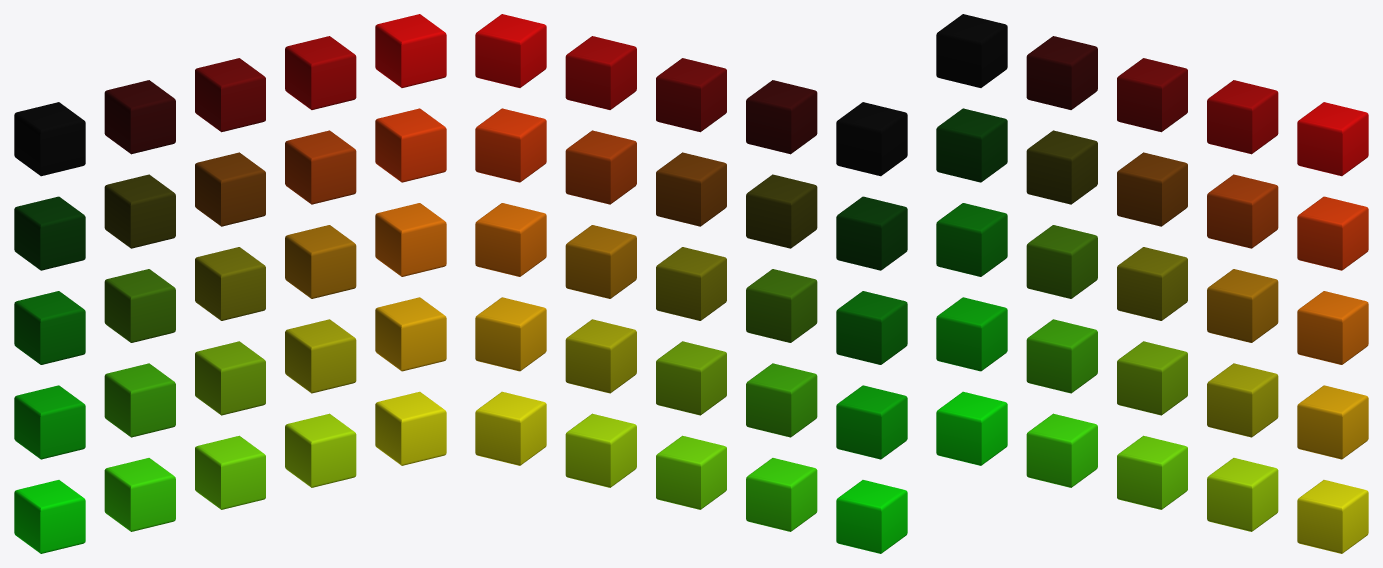
File: ship_mat_cube_grid.glb
3 views of the same model, side by side, from view 1: azimuth 30°, elevation 25°; view 2: azimuth 150°, elevation 25°; view 3: azimuth 330°, elevation 25° (orthographic).
Parts seen in each view (by area): view 1: Cube, Cube.003, Cube.004, Cube.005, Cube.009, Cube.010, Cube.014, Cube.015, Cube.019, Cube.020, Cube.021, Cube.024 (+13 smaller); view 2: Cube, Cube.003, Cube.004, Cube.005, Cube.009, Cube.010, Cube.014, Cube.015, Cube.019, Cube.020, Cube.021, Cube.024 (+13 smaller); view 3: Cube, Cube.001, Cube.004, Cube.005, Cube.009, Cube.010, Cube.014, Cube.015, Cube.019, Cube.020, Cube.023, Cube.024 (+13 smaller).
Part boxes in pixels (bbox=[...]): Cube: bbox=[14, 480, 85, 553]; Cube.003: bbox=[285, 413, 356, 487]; Cube.004: bbox=[375, 391, 446, 465]; Cube.005: bbox=[14, 385, 85, 459]; Cube.009: bbox=[375, 297, 446, 371]; Cube.010: bbox=[14, 291, 85, 364]; Cube.014: bbox=[375, 203, 446, 276]; Cube.015: bbox=[14, 196, 85, 270]; Cube.019: bbox=[375, 108, 446, 182]; Cube.020: bbox=[14, 102, 85, 176]; Cube.021: bbox=[104, 80, 175, 154]; Cube.024: bbox=[375, 14, 446, 87]; Cube: bbox=[836, 480, 907, 553]; Cube.003: bbox=[565, 413, 636, 487]; Cube.004: bbox=[475, 391, 546, 465]; Cube.005: bbox=[836, 385, 907, 459]; Cube.009: bbox=[475, 297, 546, 371]; Cube.010: bbox=[836, 291, 907, 364]; Cube.014: bbox=[475, 203, 546, 276]; Cube.015: bbox=[836, 196, 907, 270]; Cube.019: bbox=[475, 108, 546, 182]; Cube.020: bbox=[836, 102, 907, 176]; Cube.021: bbox=[746, 80, 817, 154]; Cube.024: bbox=[475, 14, 546, 87]; Cube: bbox=[936, 391, 1007, 465]; Cube.001: bbox=[1026, 413, 1097, 487]; Cube.004: bbox=[1297, 480, 1368, 553]; Cube.005: bbox=[936, 297, 1007, 371]; Cube.009: bbox=[1297, 385, 1368, 459]; Cube.010: bbox=[936, 203, 1007, 276]; Cube.014: bbox=[1297, 291, 1368, 364]; Cube.015: bbox=[936, 108, 1007, 182]; Cube.019: bbox=[1297, 196, 1368, 270]; Cube.020: bbox=[936, 14, 1007, 87]; Cube.023: bbox=[1207, 80, 1278, 154]; Cube.024: bbox=[1297, 102, 1368, 176].
Size of the model in its own units: 18 by 18 by 2.
